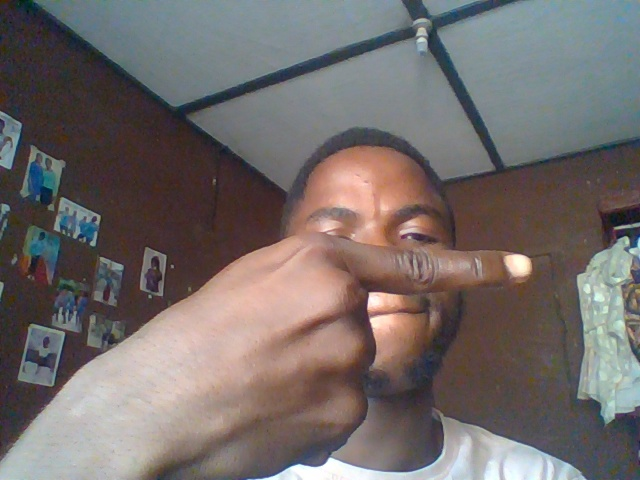Left: (73, 234, 536, 470)
